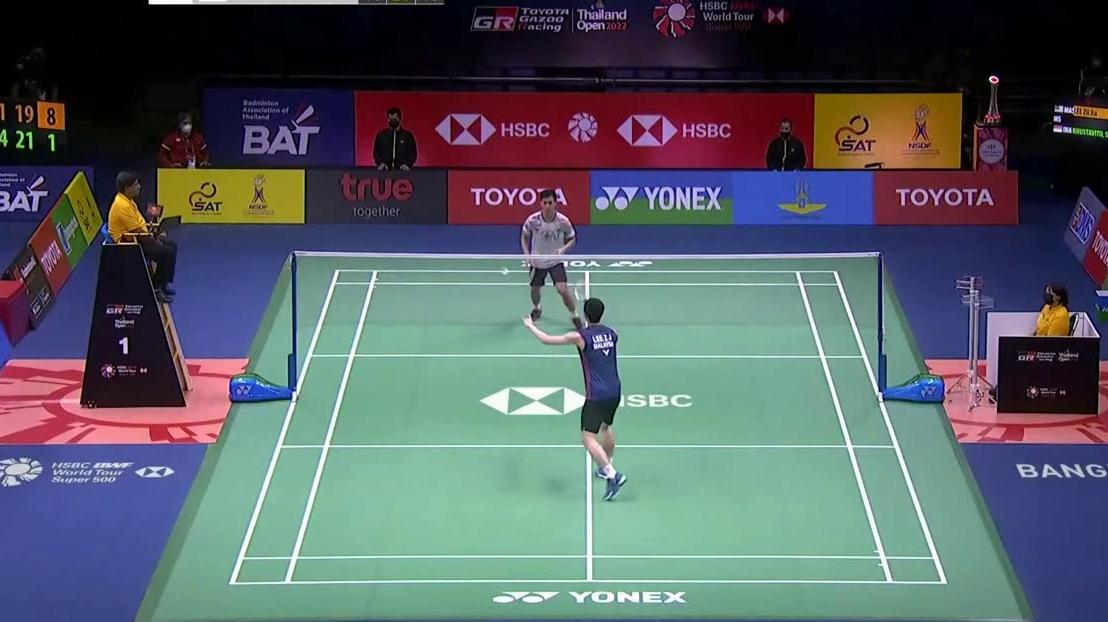racket: (573, 277, 593, 329), (526, 262, 537, 285)
shuttle: (500, 267, 510, 277)
